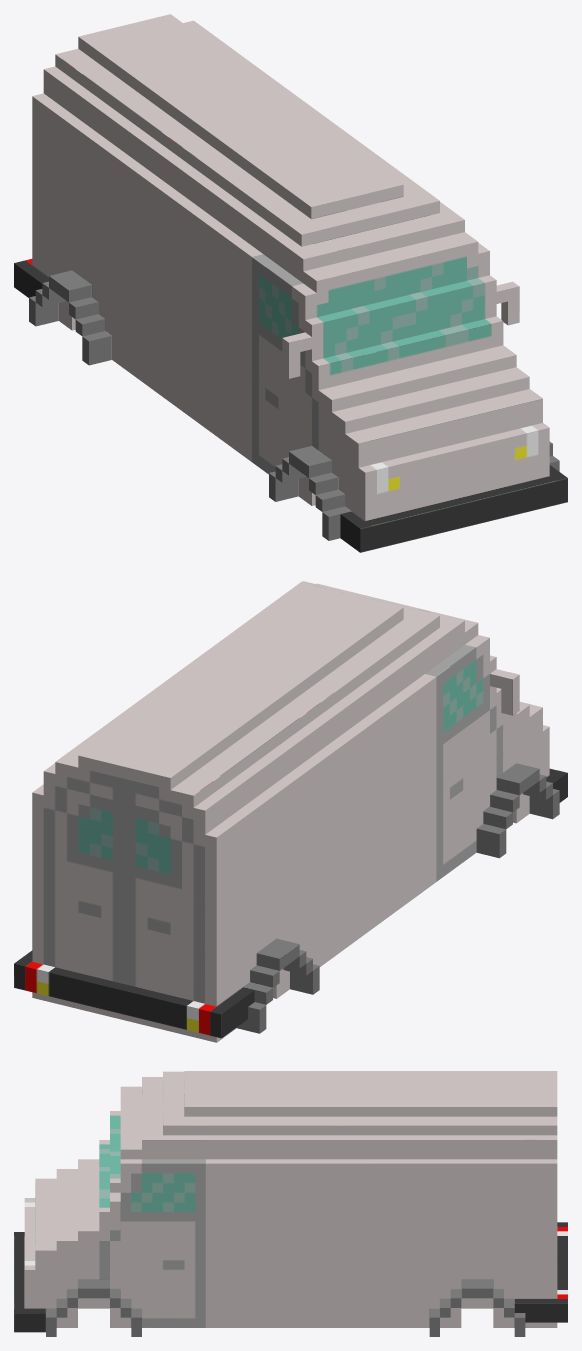
Rendered from Van_1.obj.
The picture shows the model from 3 angles, top to bottom: view 1: azimuth 30°, elevation 25°; view 2: azimuth 150°, elevation 25°; view 3: azimuth 270°, elevation 25°; orthographic projection. The views are drawn at different scales.
Parts seen in each view (by area): view 1: Van_1_Van_1.001; view 2: Van_1_Van_1.001; view 3: Van_1_Van_1.001.
Boxes of the visible parts, <box> form: Van_1_Van_1.001: <box>14,14,567,552</box>; Van_1_Van_1.001: <box>14,581,567,1042</box>; Van_1_Van_1.001: <box>14,1071,567,1336</box>.
Bounding box in the file's own units: 2 × 2.1 × 5.2.
